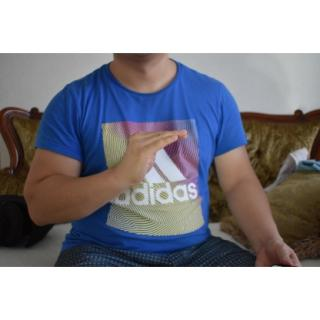HAA: (114, 122, 191, 184)
